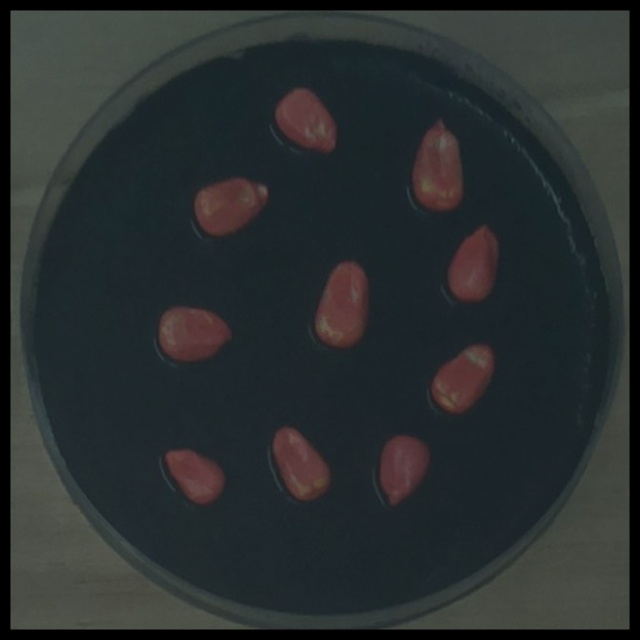Zea mays: (307, 253, 376, 353), (406, 111, 469, 216), (265, 419, 338, 509), (423, 336, 499, 422), (189, 171, 276, 243), (268, 82, 346, 161), (153, 300, 239, 369), (441, 218, 505, 310), (158, 439, 232, 510), (373, 428, 436, 510)
